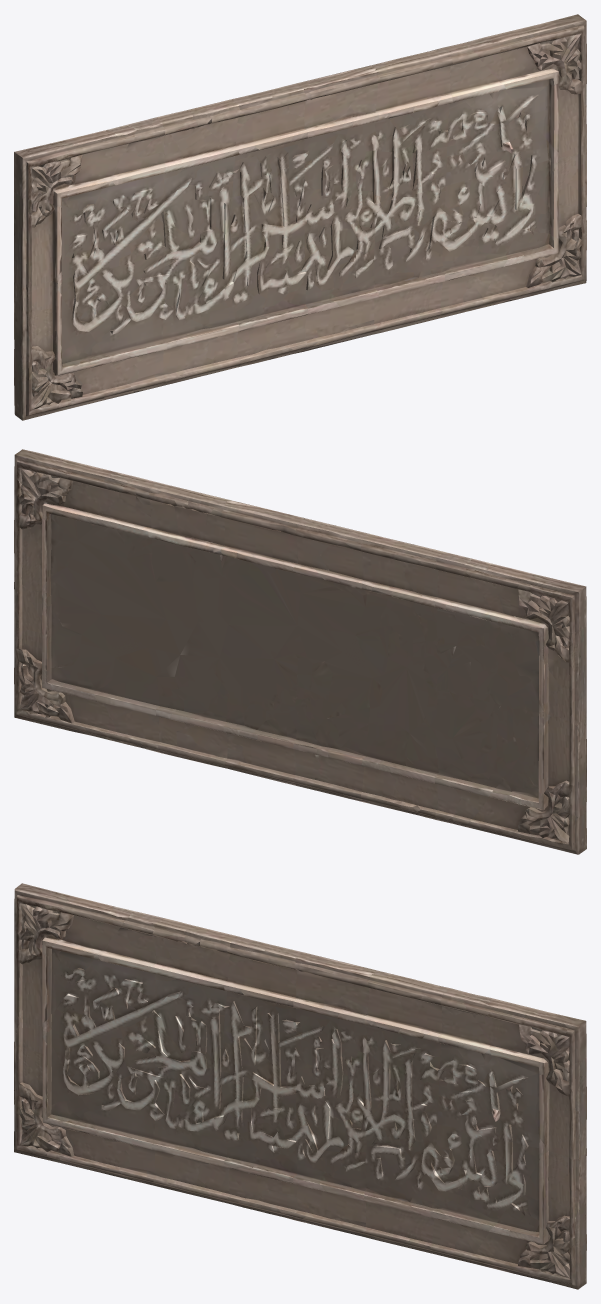
The model's file is SM_MenTou_new_a10cae.glb.
3 renders of one model, top to bottom at view 1: azimuth 30°, elevation 25°; view 2: azimuth 150°, elevation 25°; view 3: azimuth 330°, elevation 25°, orthographic.
Parts seen in each view (by area): view 1: SM_MenTou_new; view 2: SM_MenTou_new; view 3: SM_MenTou_new.
Boxes of the visible parts, <box> form: SM_MenTou_new: <box>14,14,586,420</box>; SM_MenTou_new: <box>14,449,586,854</box>; SM_MenTou_new: <box>14,883,586,1289</box>.
Size of the model in its own units: 0.9793 by 0.4354 by 0.0502.
Materials: 1 (1 with a texture image).
